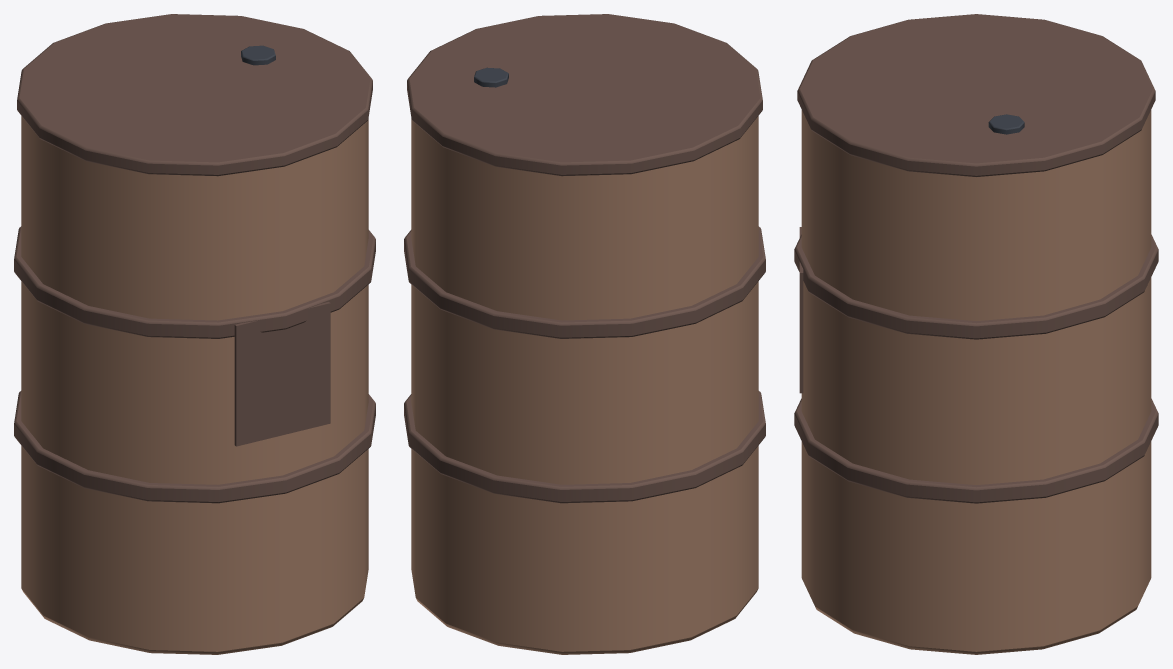
File: wild_barrel.fbx
The picture shows the model from 3 angles, left to right: view 1: azimuth 30°, elevation 25°; view 2: azimuth 150°, elevation 25°; view 3: azimuth 270°, elevation 25°; orthographic projection.
Parts seen in each view (by area): view 1: wild_barrel; view 2: wild_barrel; view 3: wild_barrel.
Part boxes in pixels (x1,y1,x2,y2): wild_barrel: (14,14,375,654); wild_barrel: (404,14,765,654); wild_barrel: (794,14,1158,654).
Size of the model in its own units: 0.604 by 0.604 by 0.915.
